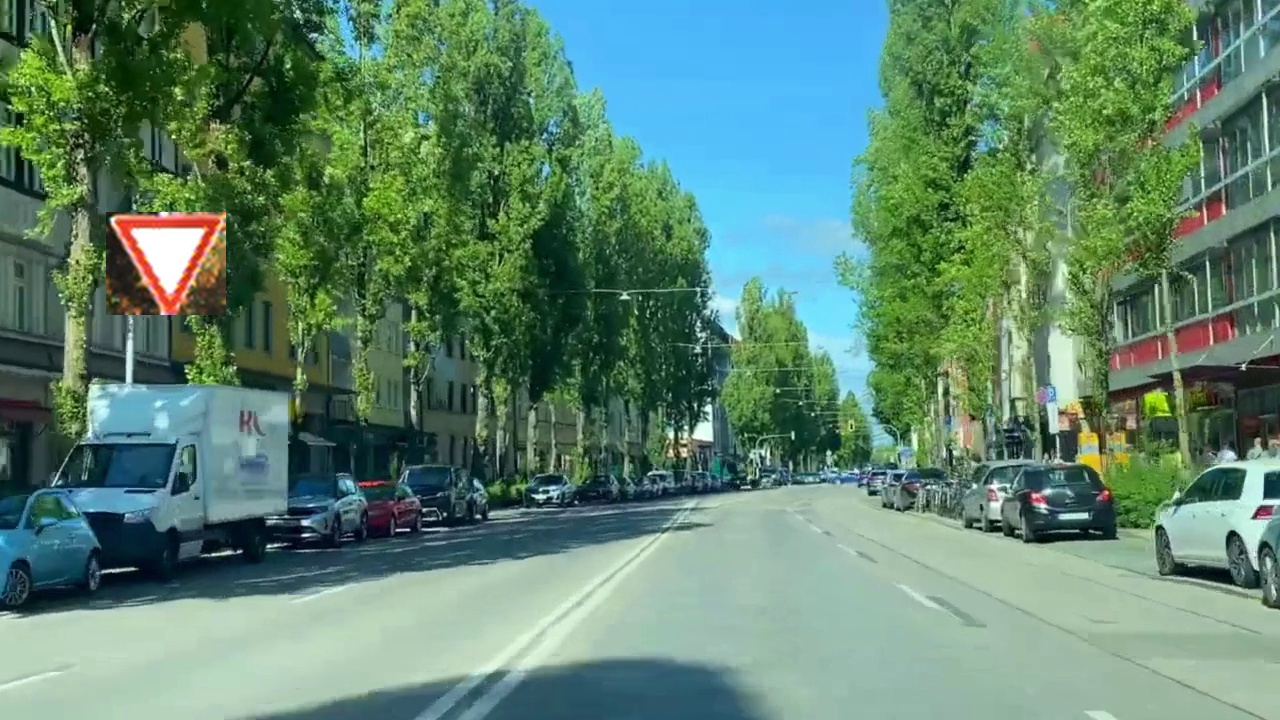Yield: (106, 212, 226, 315)
